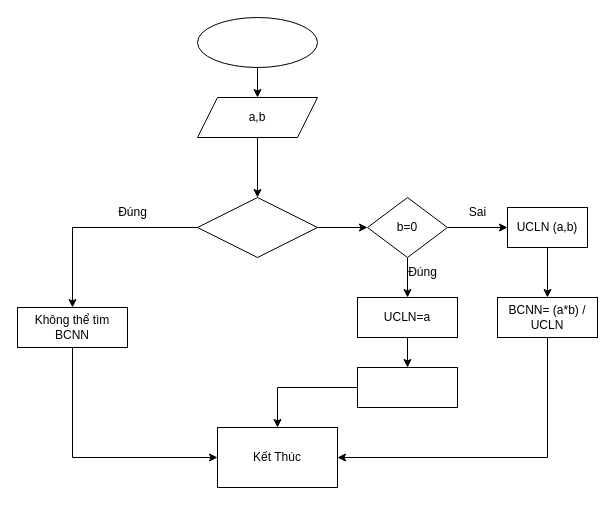
This 615x505 diagram has some shape labels left out. Each missing label, with the centre of its shape:
a=0 hoặc b=0: (257,227)
BCNN=a: (407,387)
START: (257,42)
